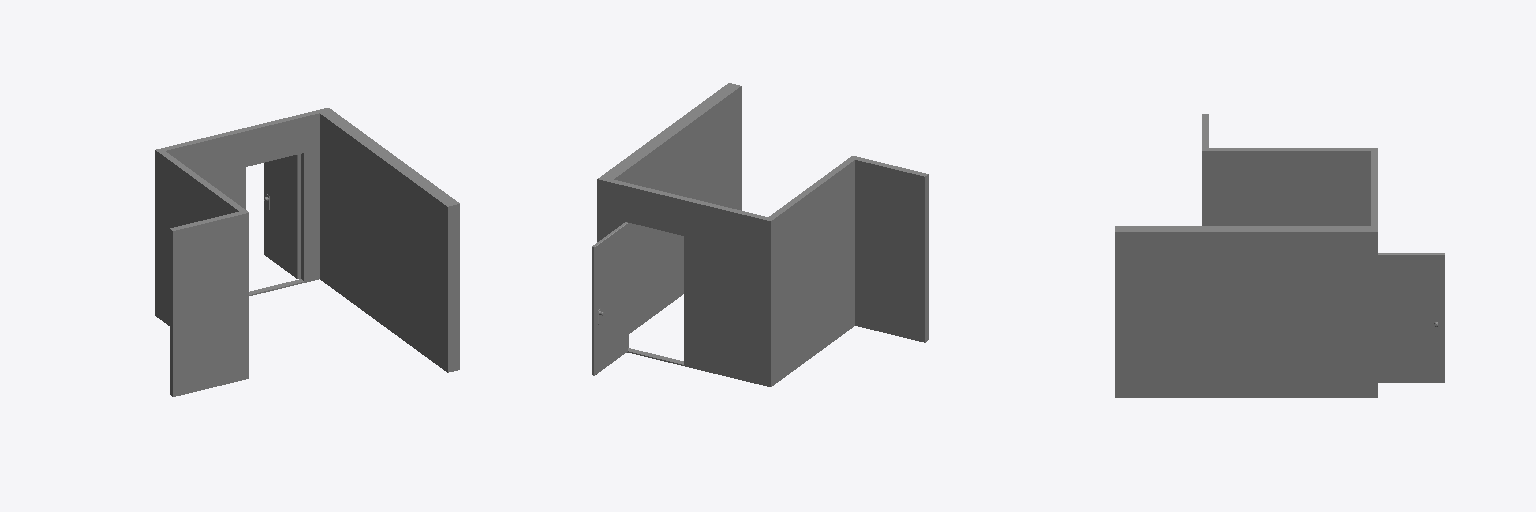
Rendered from mdf_room4-1.obj.
The picture shows the model from 3 angles: view 1: azimuth 30°, elevation 25°; view 2: azimuth 150°, elevation 25°; view 3: azimuth 270°, elevation 25°; orthographic projection.
Parts seen in each view (by area): view 1: Mesh02, Group140_2, Object001, Group142_2; view 2: Mesh02, Group140_2, Object001, Group142_2; view 3: Mesh02, Group140_2, Object001.
Boxes of the visible parts, x1,y1,x2,y2 form: Mesh02: [155, 113, 459, 396]; Group140_2: [264, 154, 300, 278]; Object001: [156, 108, 459, 230]; Group142_2: [244, 150, 306, 295]; Mesh02: [597, 86, 928, 386]; Group140_2: [592, 222, 627, 375]; Object001: [598, 83, 927, 220]; Group142_2: [598, 219, 685, 366]; Mesh02: [1115, 151, 1377, 397]; Group140_2: [1378, 253, 1444, 382]; Object001: [1115, 114, 1377, 231].
Bounding box in the file's own units: 151 × 98.43 × 178.